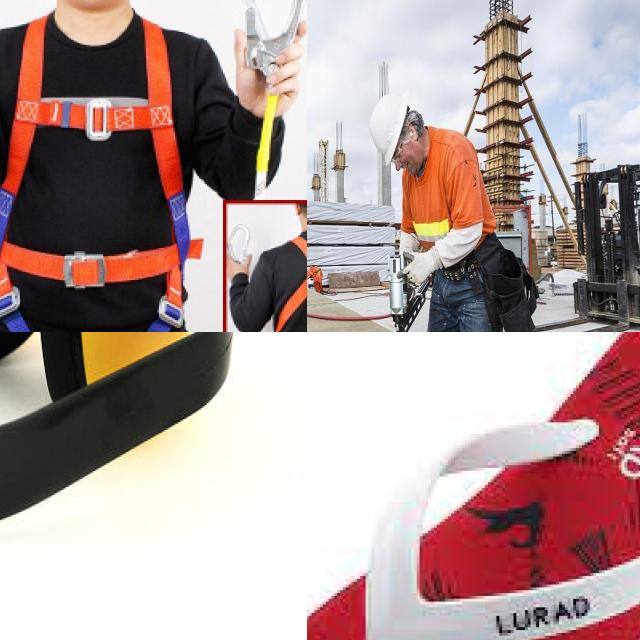Ear-protection: (0, 332, 249, 531)
Harness: (0, 16, 194, 332)
Sandals: (307, 332, 640, 640)
face_nomask: (394, 126, 424, 177)
glasses: (388, 141, 404, 166)
hand_glove: (404, 243, 444, 296)
head_helmet: (366, 92, 412, 166)
person: (361, 87, 508, 332)
vest: (401, 174, 482, 260)
